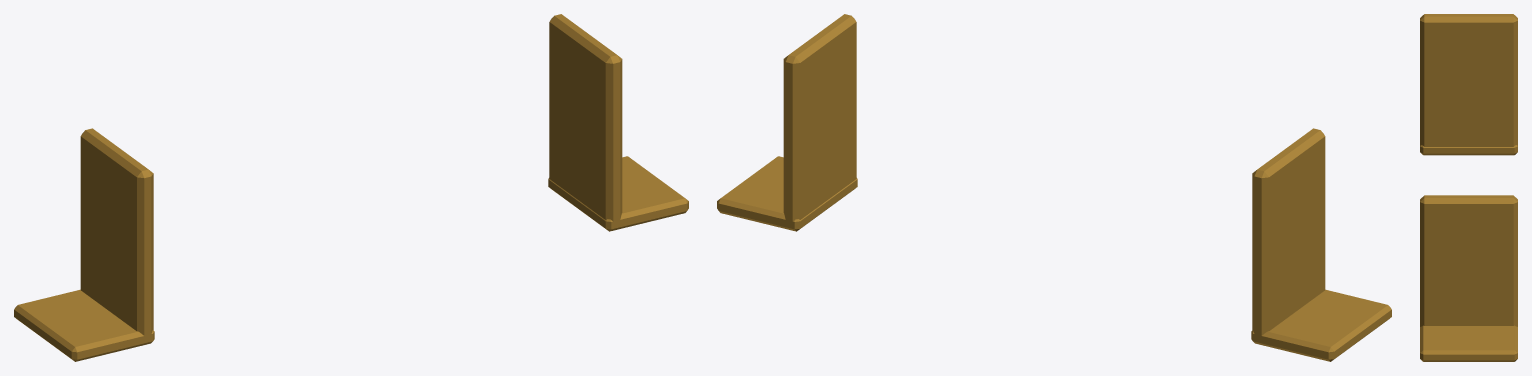
File: bookends.glb
3 views of the same model, side by side, from view 1: azimuth 30°, elevation 25°; view 2: azimuth 150°, elevation 25°; view 3: azimuth 270°, elevation 25° (orthographic). The views are drawn at different scales.
Parts seen in each view (by area): view 1: End_L_mesh, End_R_mesh; view 2: End_L_mesh, End_R_mesh; view 3: End_R_mesh, End_L_mesh.
Boxes of the visible parts, x1,y1,x2,y2 form: End_L_mesh: [14, 128, 154, 361]; End_R_mesh: [548, 14, 688, 231]; End_L_mesh: [1251, 128, 1391, 361]; End_R_mesh: [717, 14, 857, 231]; End_R_mesh: [1420, 195, 1517, 361]; End_L_mesh: [1420, 14, 1517, 155].
Size of the model in its own units: 1.04 by 0.28 by 0.18.
